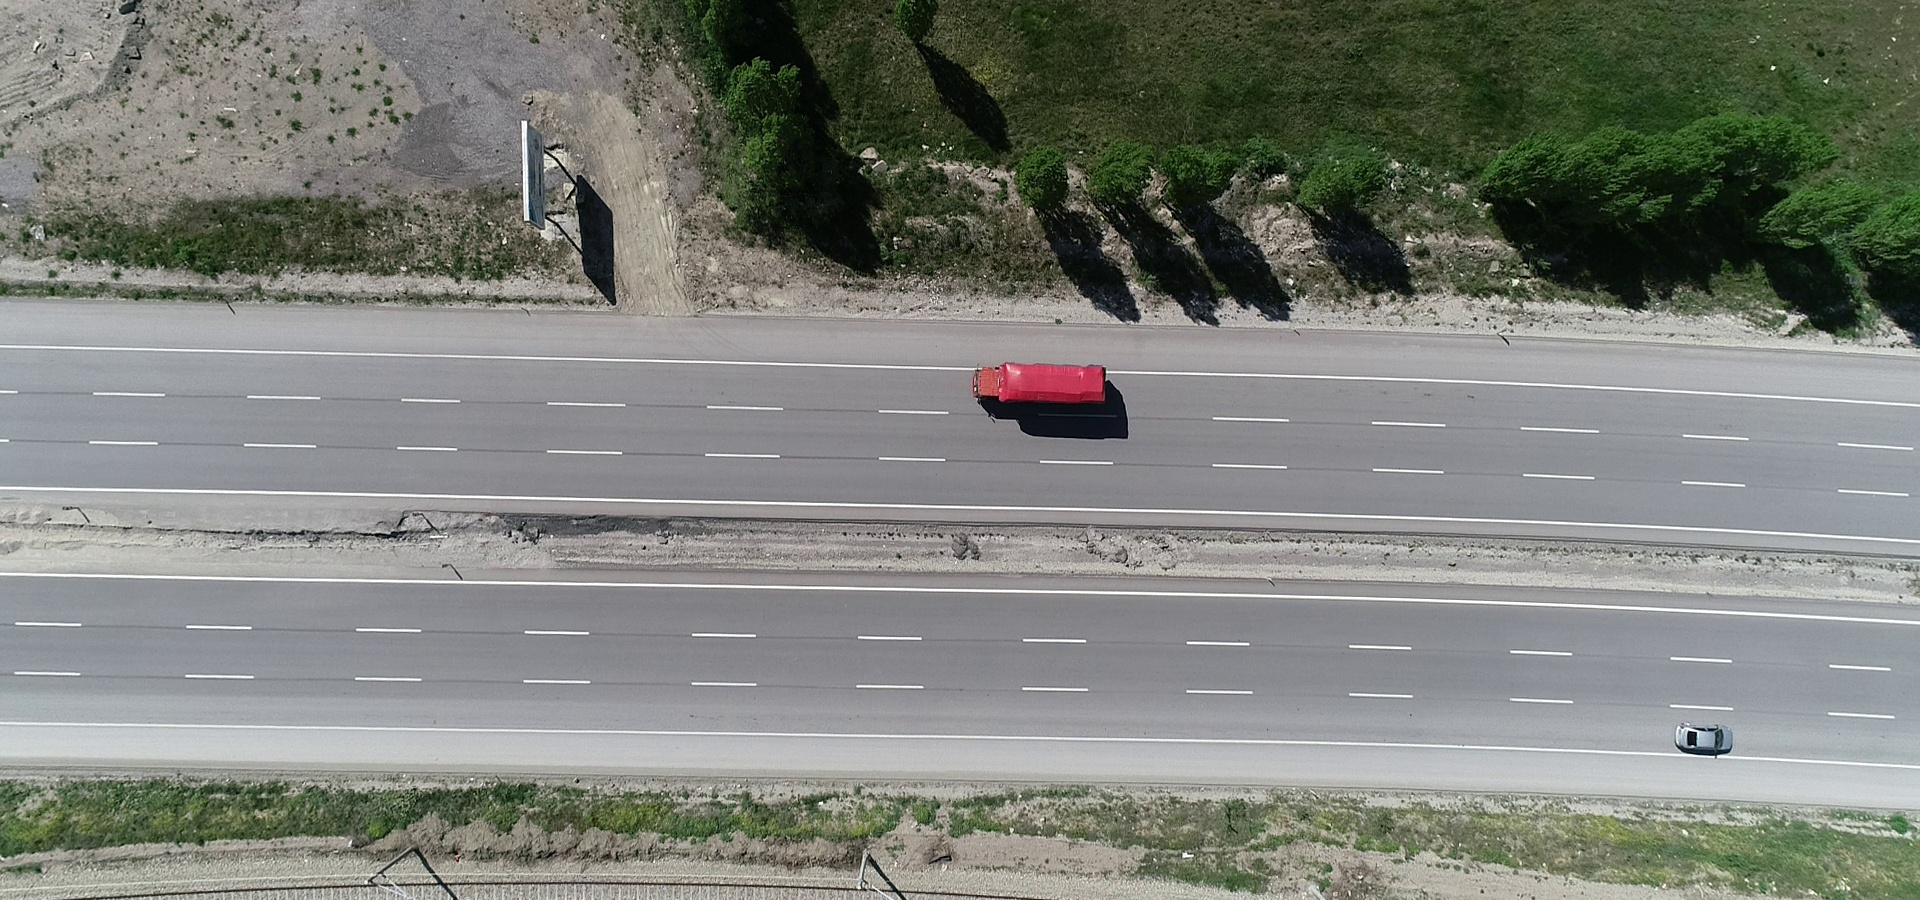arac: (969, 356, 1116, 415), (1669, 718, 1738, 758)
